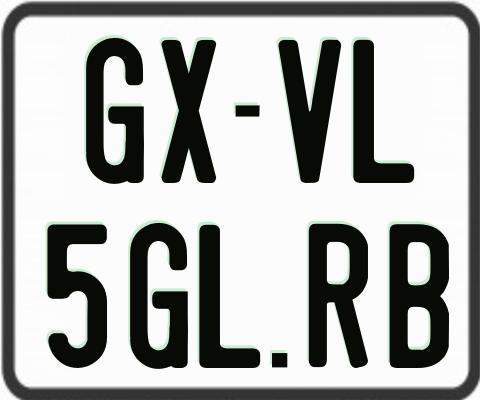5: (44, 221, 108, 365)
B: (388, 221, 449, 367)
G: (86, 36, 148, 184), (127, 220, 185, 367)
L: (353, 40, 417, 185), (198, 222, 261, 366)
R: (306, 224, 367, 372)
V: (278, 37, 347, 184)
X: (161, 37, 218, 181)
